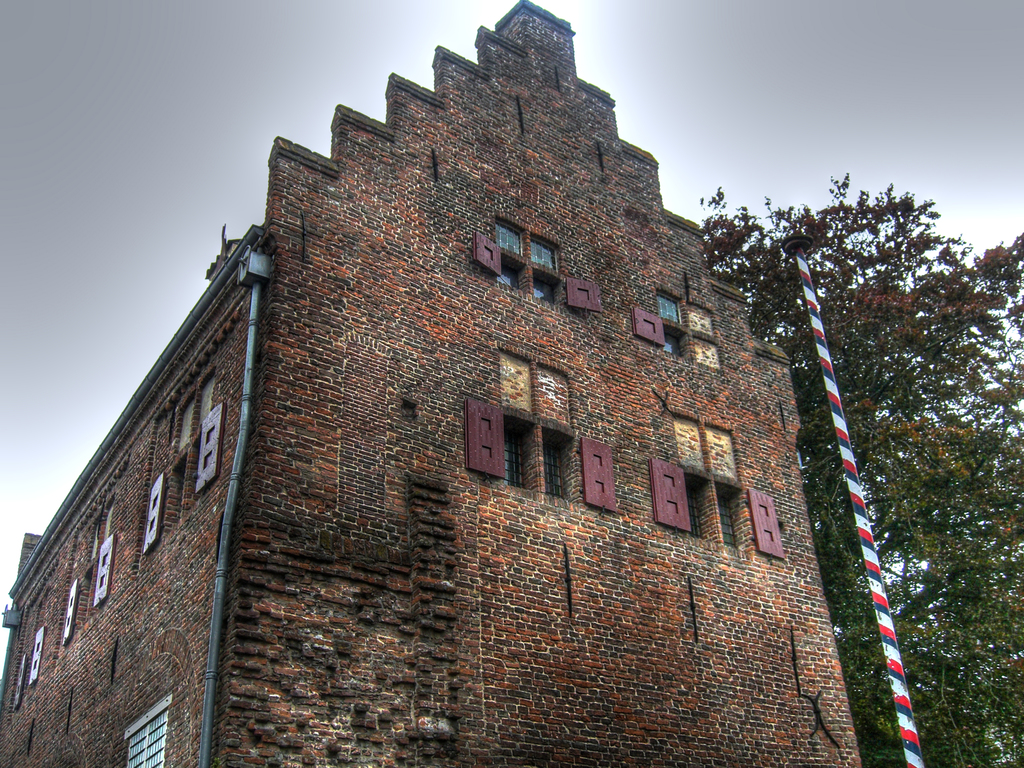Tree: (696, 165, 1023, 767)
